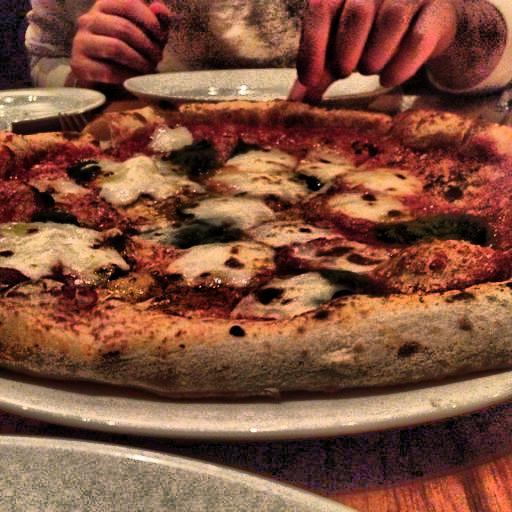pizza: (2, 102, 507, 454)
